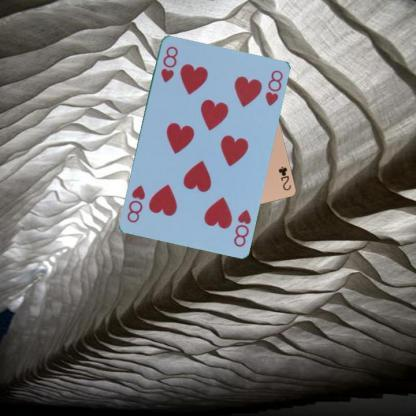2c: (276, 163, 292, 192)
8h: (230, 206, 252, 248), (158, 44, 180, 84)
